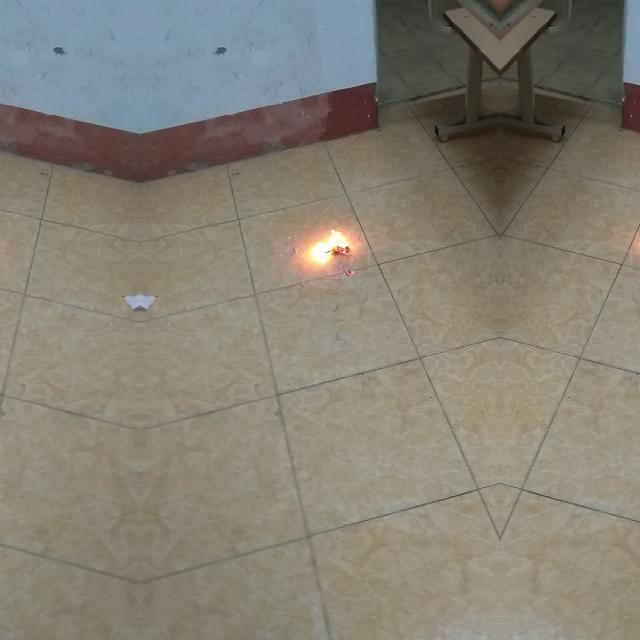smoke: (310, 228, 348, 264)
